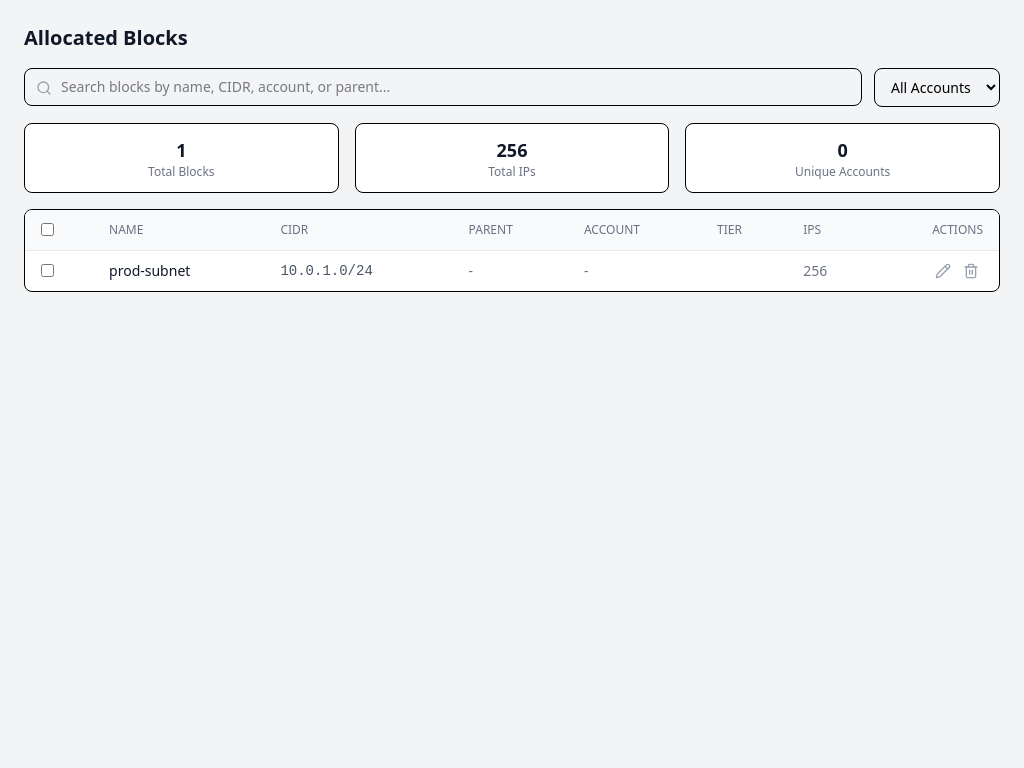
pool-type <select> options come from POOL_TYPES › lists every pool type in the edit-block select
Click the button titled "Edit block": point(943, 271) top-left (931, 259), bottom-right (955, 283)
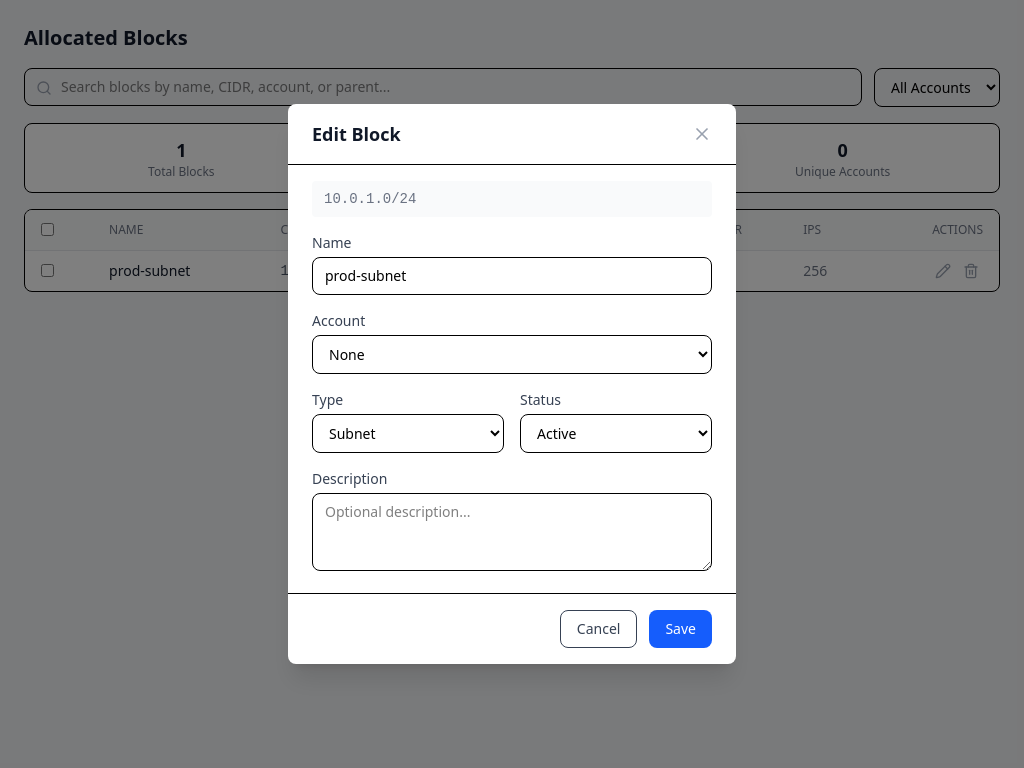
Now the dropdown with id "edit-block-type" is shown, box top-left (312, 414), bottom-right (504, 453)
